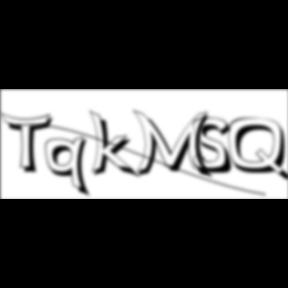M: (132, 108, 216, 181)
S: (193, 117, 239, 176)
T: (0, 112, 58, 176)
k: (90, 108, 142, 181)
q: (46, 135, 94, 200)
